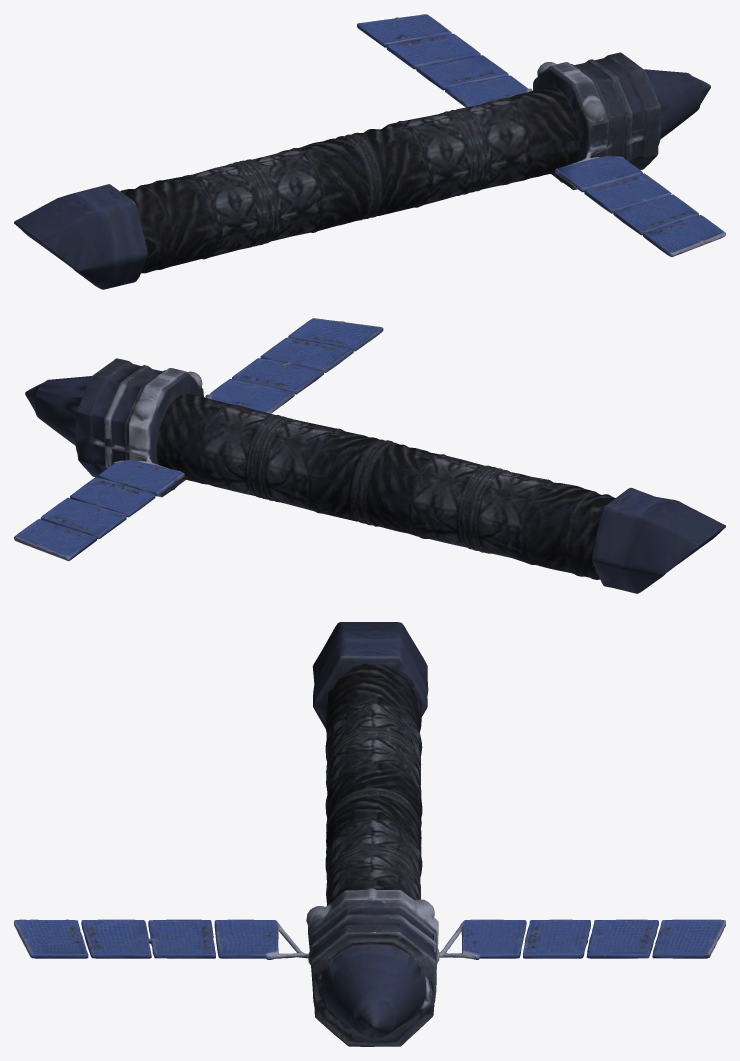
Rendered from athena-low.glb.
3 renders of one model, top to bottom at view 1: azimuth 30°, elevation 25°; view 2: azimuth 150°, elevation 25°; view 3: azimuth 270°, elevation 25°, orthographic. The views are drawn at different scales.
Size of the model in its own units: 1.49 by 0.2318 by 1.19.
1 material, 1 textured.
